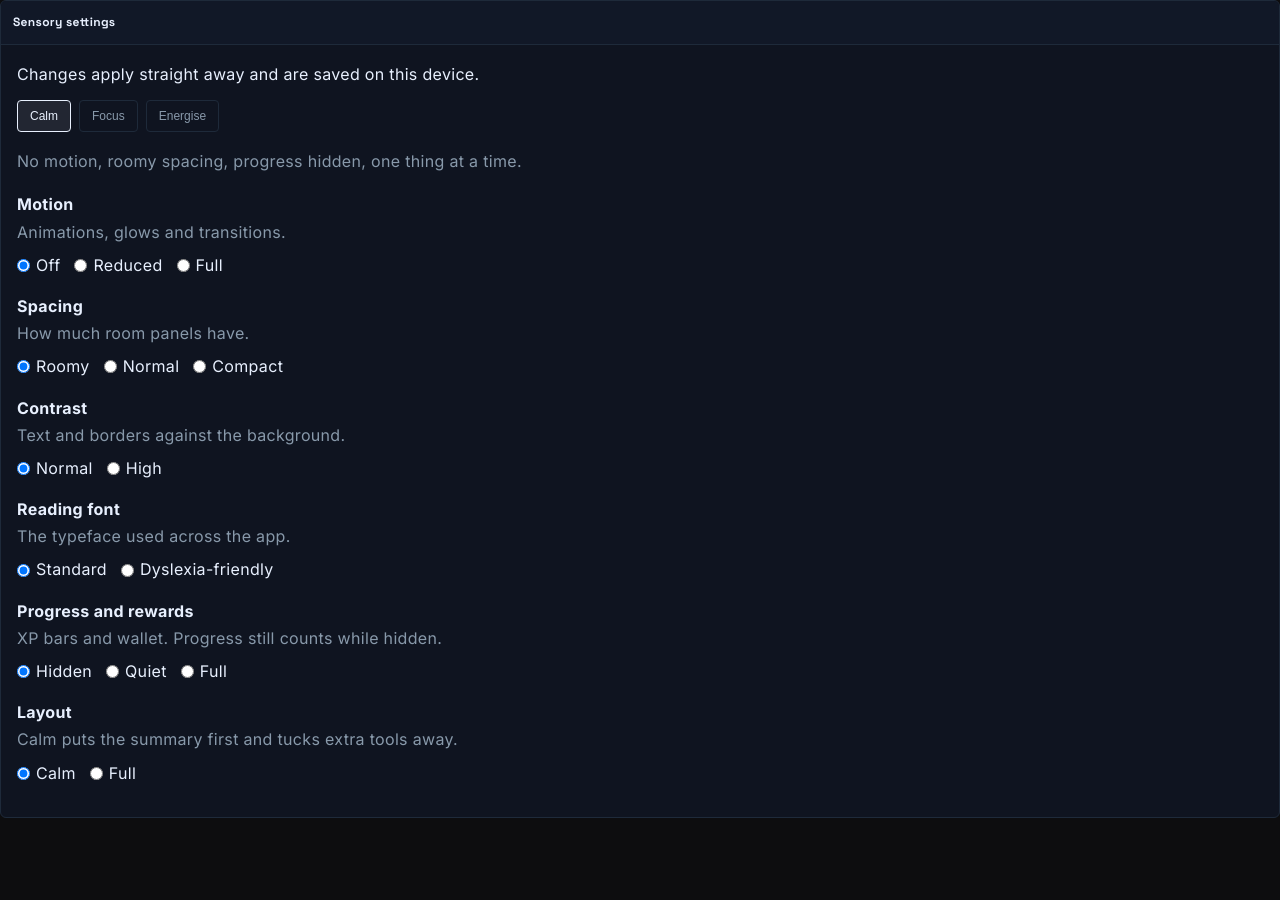
Test: SensorySettingsPanel › changing one setting applies at once and the preset becomes Custom
This screenshot has width=1280, height=900.
Click the radio button labelled "Full" next to "Reduced" at (183, 265), box [177, 259, 190, 272]
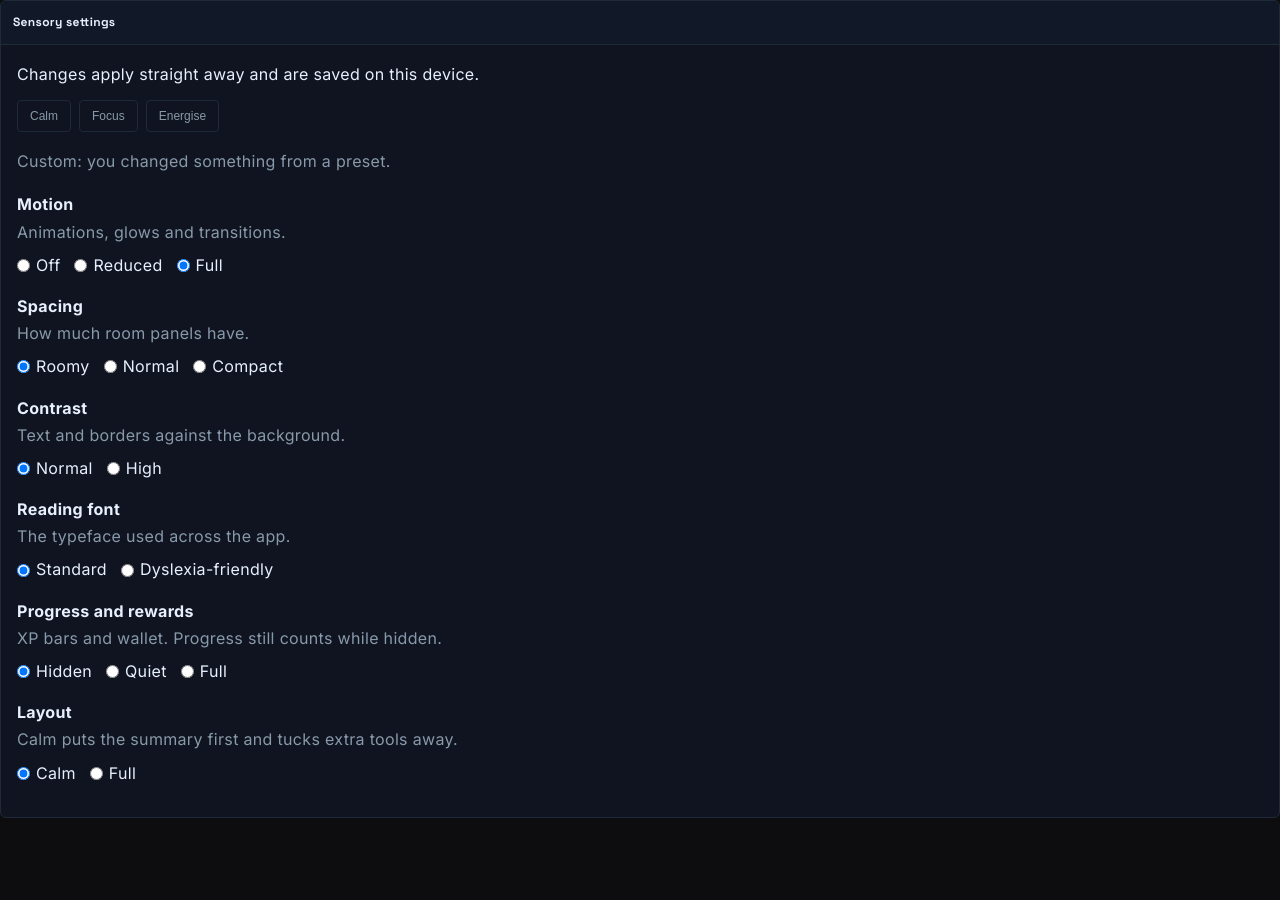
Check: the text with test id "preset-help" shows "Custom", box [17, 151, 391, 171]
